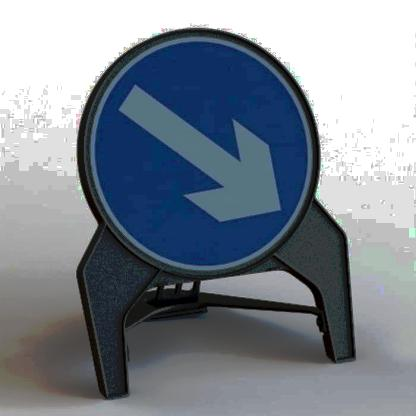Keep right: (81, 34, 321, 272)
